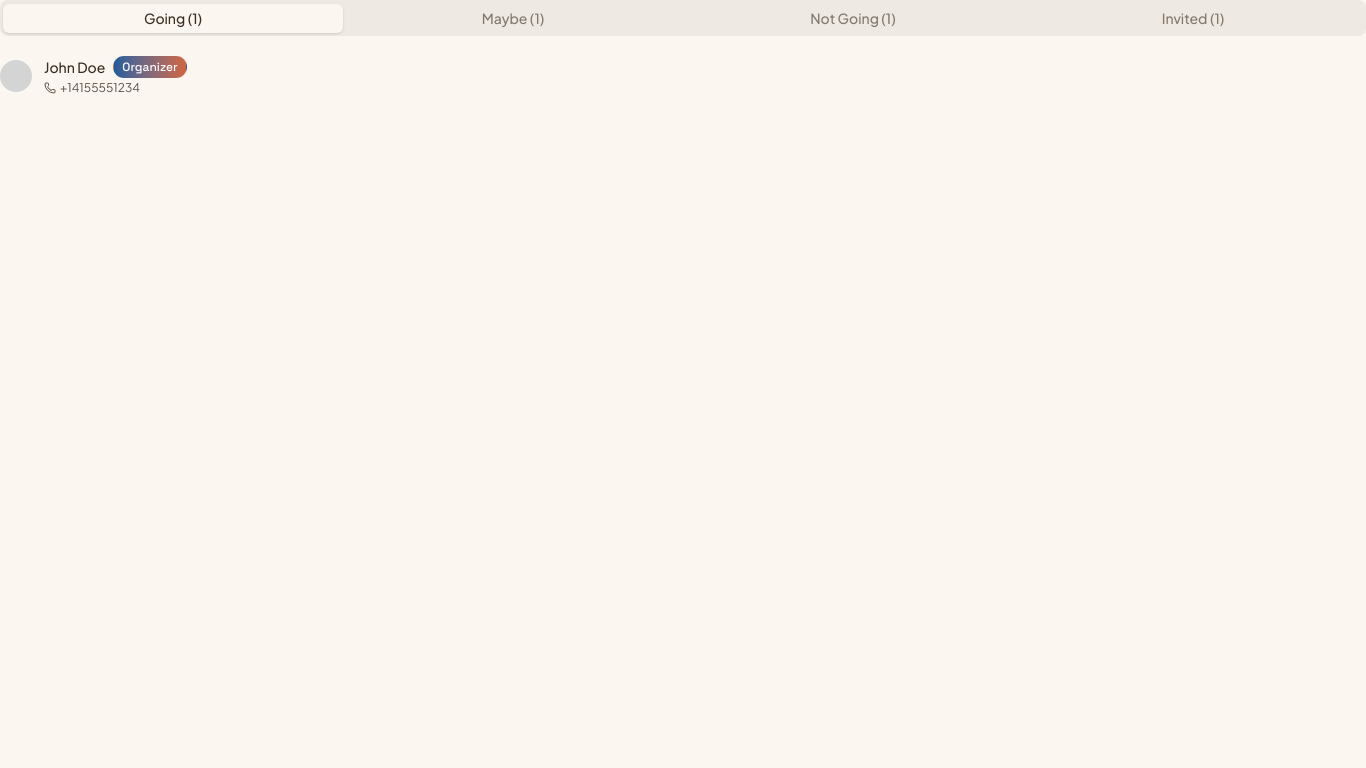
Scenario: MembersList › mute/unmute controls › shows confirmation dialog when Mute is clicked
Step 1. Click the tab "Maybe (1)" → (513, 18), box top-left (343, 4), bottom-right (683, 32)
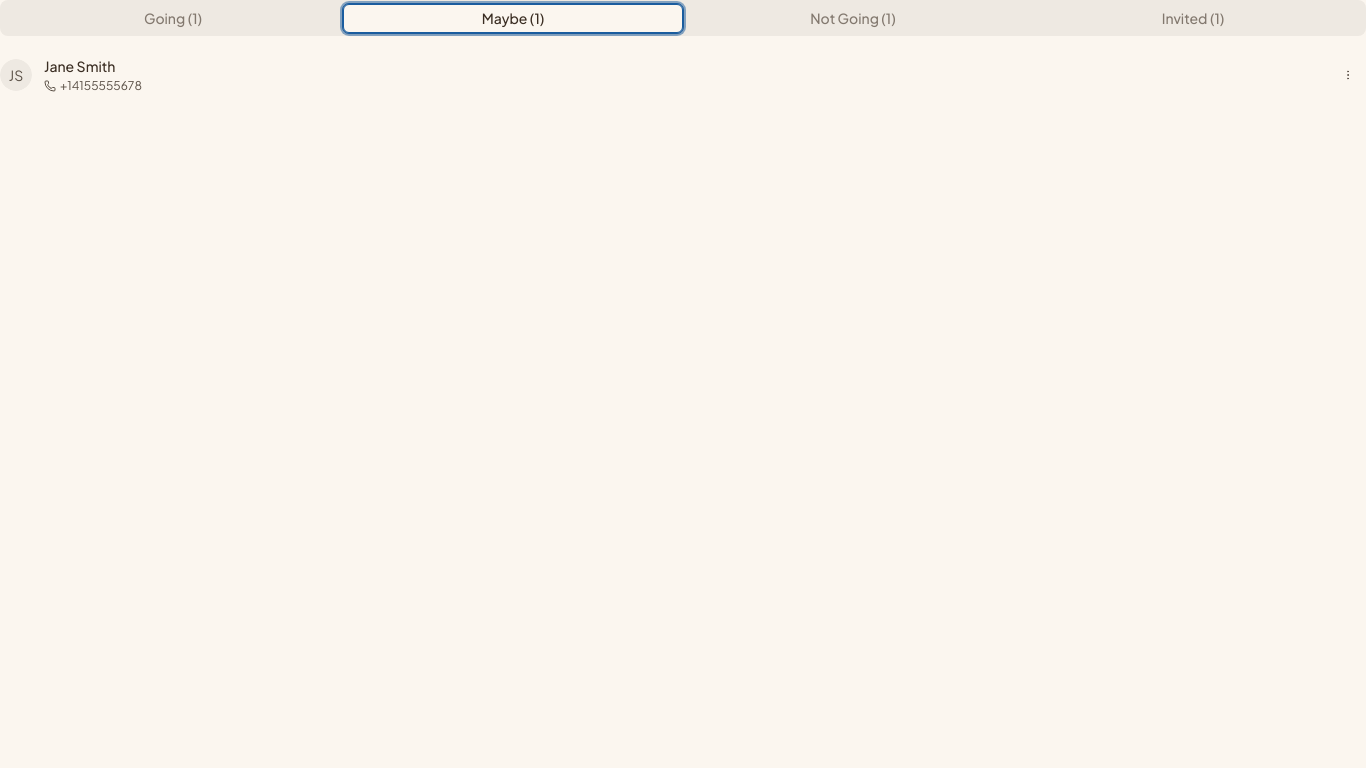
Step 2. Click the button named "Actions for Jane Smith" → (1348, 75), box top-left (1330, 57), bottom-right (1365, 93)
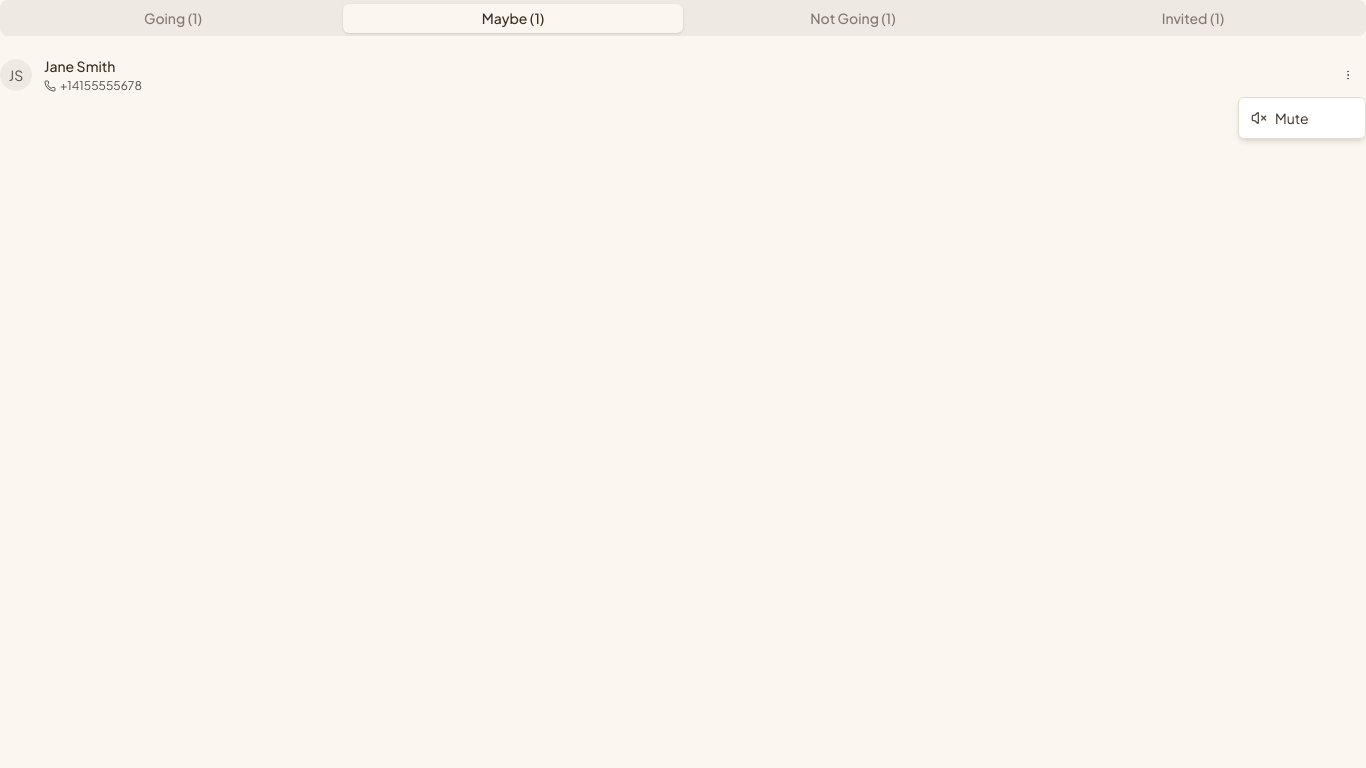
Step 3. Click the menu item "Mute" → (1280, 118), box top-left (1251, 109), bottom-right (1308, 127)
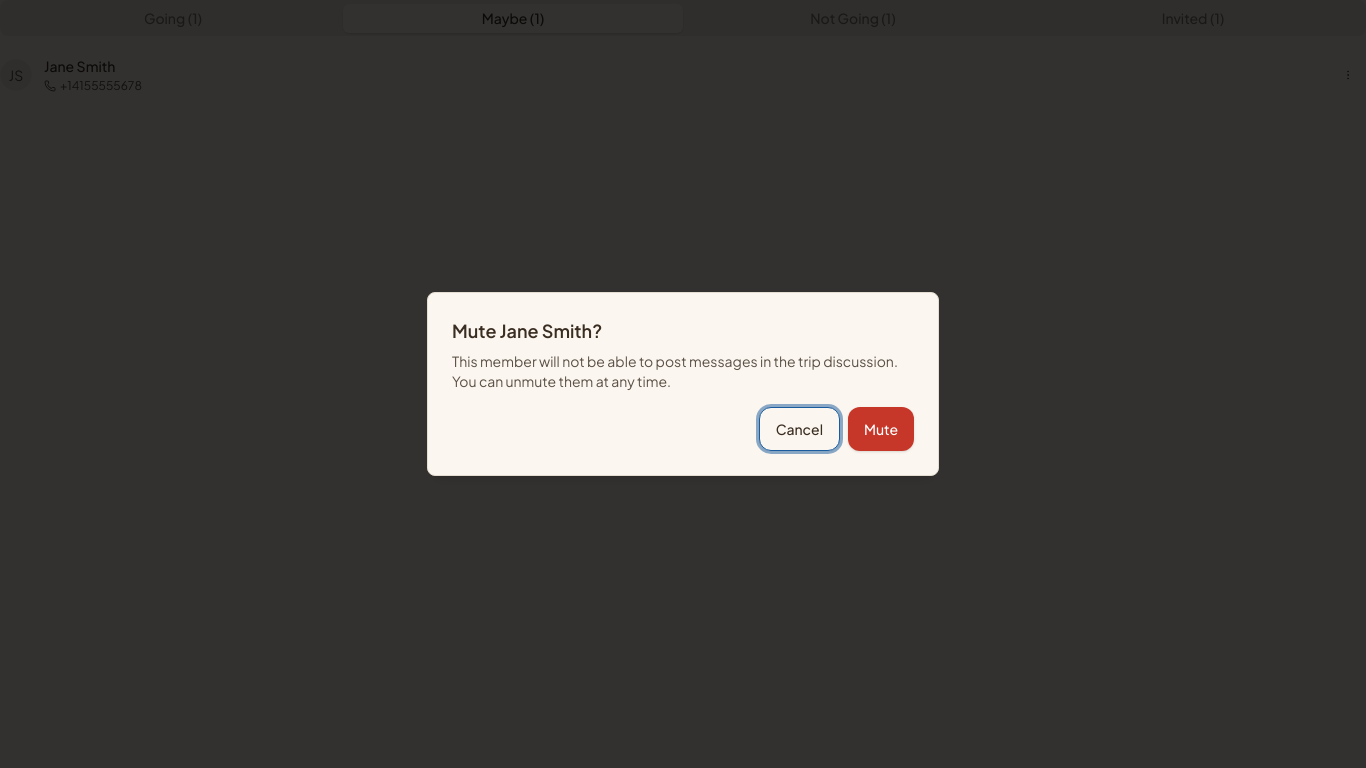
Result: the heading "Mute Jane Smith?" is shown at top-left (452, 317), bottom-right (602, 345)
Result: the text "This member will not be able to post messages in the trip discussion. You can unmute them at any time." is shown at top-left (452, 352), bottom-right (898, 390)
